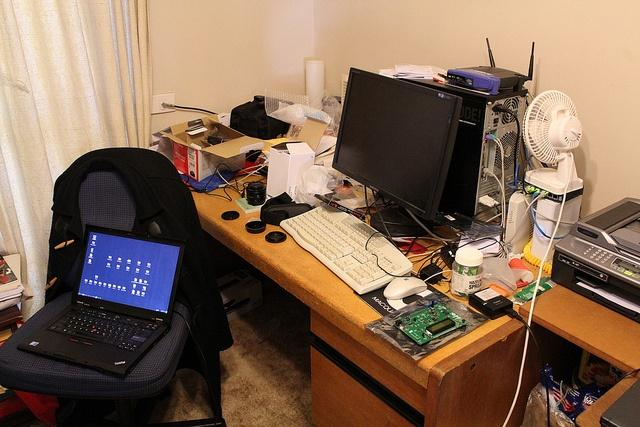AIO PC-Monitor-TV: (330, 65, 463, 219)
Kursi: (0, 145, 193, 402)
Printer: (550, 195, 639, 324)
